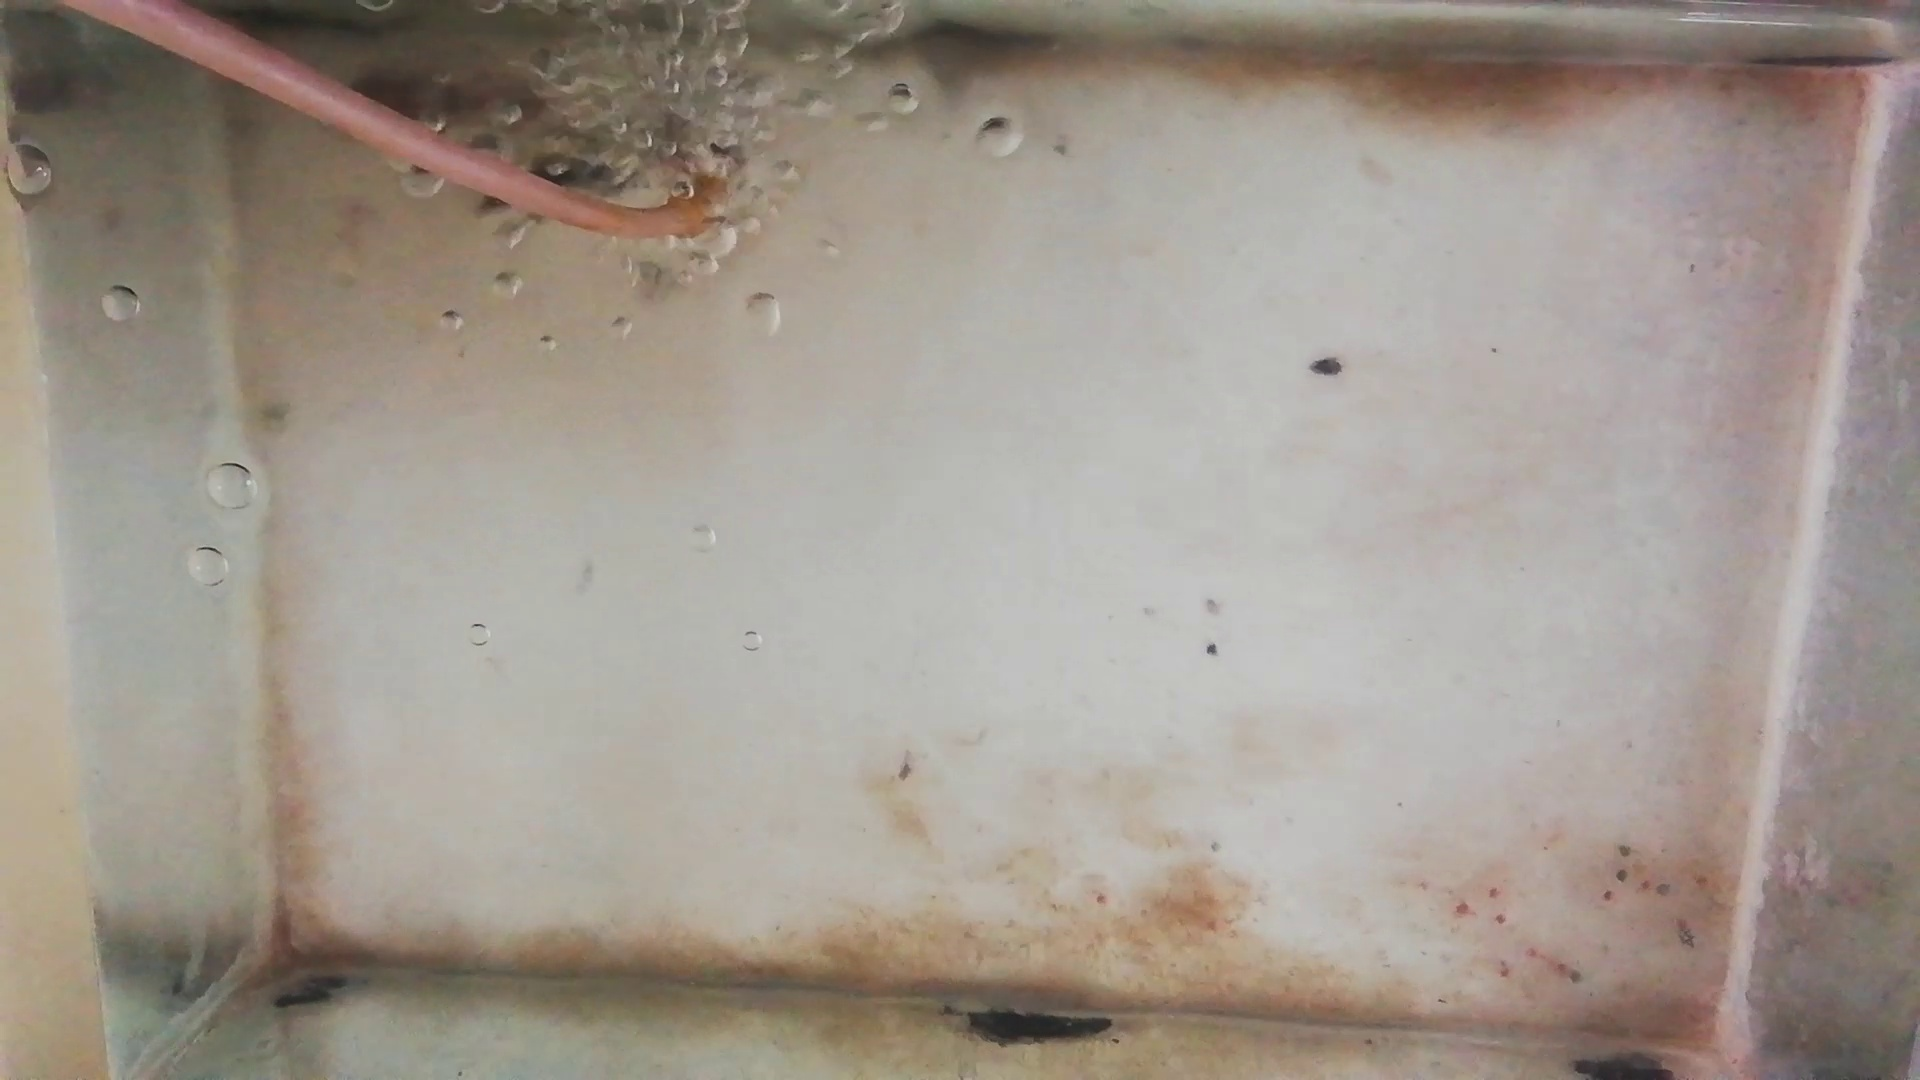fish: (345, 76, 535, 124), (510, 148, 657, 203)
